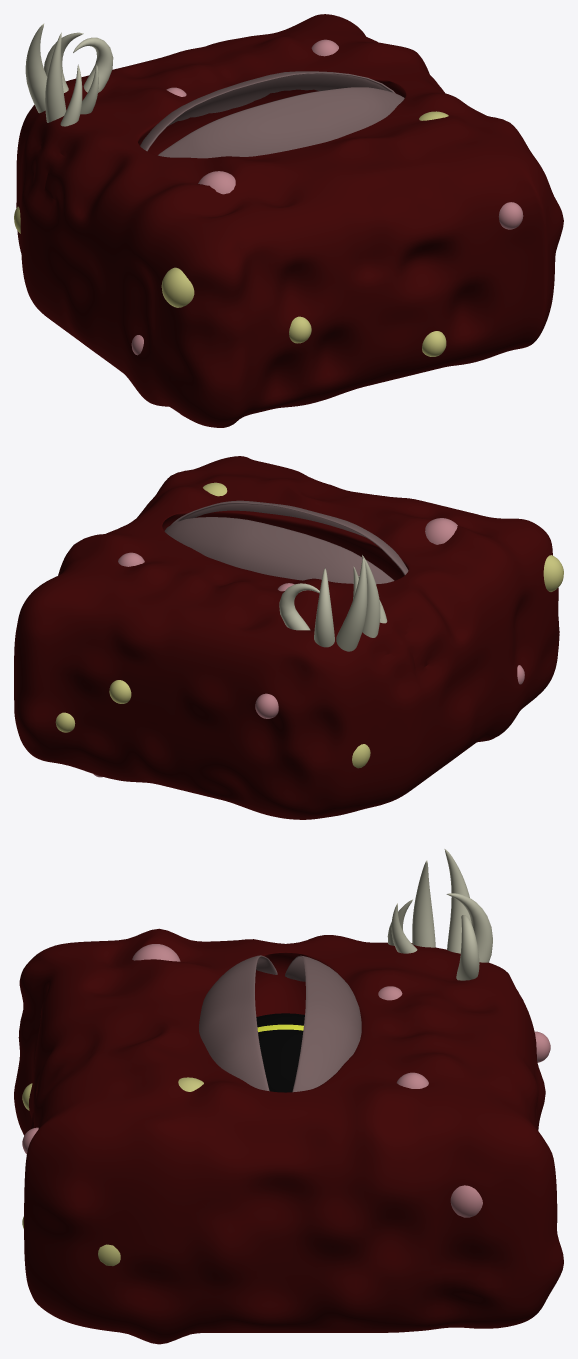
File: artifact1.fbx
3 renders of one model, top to bottom at view 1: azimuth 30°, elevation 25°; view 2: azimuth 150°, elevation 25°; view 3: azimuth 270°, elevation 25°, orthographic. The views are drawn at different scales.
Visible parts, largest first — view 1: Base_Body_, Eyelid2, Eyelid3, Horn1, Horn2, Horn4, pimple7, Horn5, pimple1, pimple10, pimple14; view 2: Base_Body_, Eyelid3, Eyelid2, Horn1, Horn3, Horn4, Horn2, pimple1, pimple7, pimple12; view 3: Base_Body_, Eyelid3, Eyelid2, Eyeball, Horn2, Horn1, Horn3, Horn4, pimple5, pimple1.
Part boxes in pixels (left/top/right/bottom): Base_Body_: left=16, top=14, right=563, bottom=427; Eyelid2: left=158, top=87, right=404, bottom=158; Eyelid3: left=140, top=71, right=395, bottom=151; Horn1: left=25, top=23, right=47, bottom=113; Horn2: left=45, top=32, right=66, bottom=122; Horn4: left=73, top=37, right=113, bottom=92; pimple7: left=161, top=267, right=194, bottom=307; Horn5: left=60, top=64, right=82, bottom=126; pimple1: left=198, top=171, right=235, bottom=194; pimple10: left=498, top=202, right=523, bottom=229; pimple14: left=422, top=331, right=446, bottom=356; Base_Body_: left=14, top=456, right=559, bottom=819; Eyelid3: left=164, top=517, right=394, bottom=584; Eyelid2: left=171, top=500, right=408, bottom=575; Horn1: left=336, top=557, right=367, bottom=651; Horn3: left=314, top=568, right=334, bottom=647; Horn4: left=279, top=583, right=319, bottom=630; Horn2: left=362, top=555, right=380, bottom=637; pimple1: left=425, top=518, right=457, bottom=544; pimple7: left=543, top=555, right=563, bottom=591; pimple12: left=255, top=693, right=278, bottom=718; Base_Body_: left=14, top=928, right=563, bottom=1344; Eyelid3: left=285, top=955, right=361, bottom=1092; Eyelid2: left=199, top=955, right=277, bottom=1091; Eyeball: left=256, top=1013, right=304, bottom=1092; Horn2: left=412, top=860, right=435, bottom=947; Horn1: left=444, top=849, right=471, bottom=953; Horn3: left=446, top=893, right=492, bottom=962; Horn4: left=456, top=915, right=479, bottom=980; pimple5: left=450, top=1185, right=482, bottom=1217; pimple1: left=132, top=944, right=180, bottom=961.
Size of the model in its own units: 2.08 by 1.44 by 2.18.
